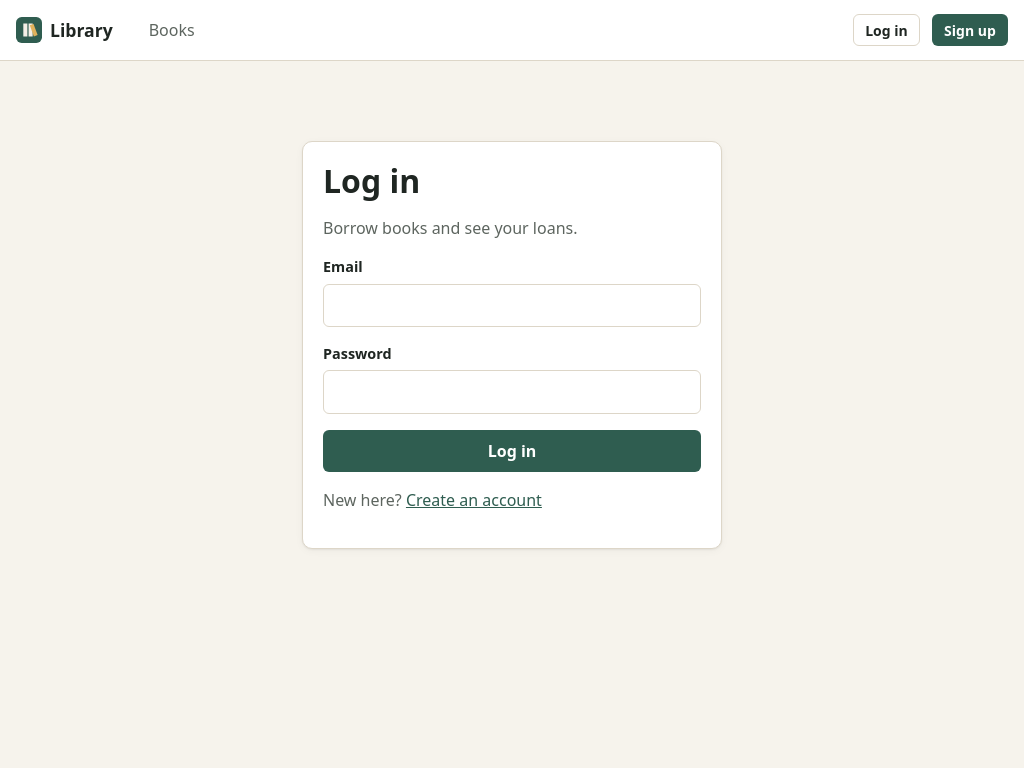
Test case: logging in › shows the API error for a wrong password
Type "ada@example.com" into the field labelled "Email".
click(512, 305); type("ada@example.com")  # box [323,284,701,327]
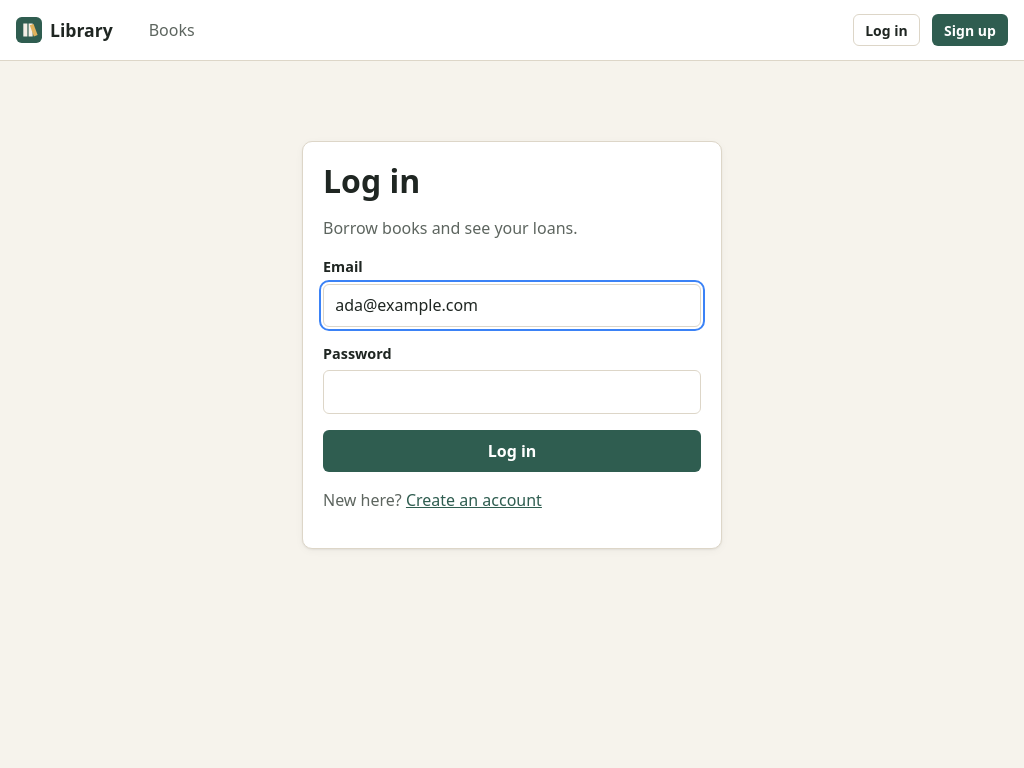
Type "wrong password" into the password field labelled "Password".
click(512, 392); type("wrong password")  # box [323,370,701,414]
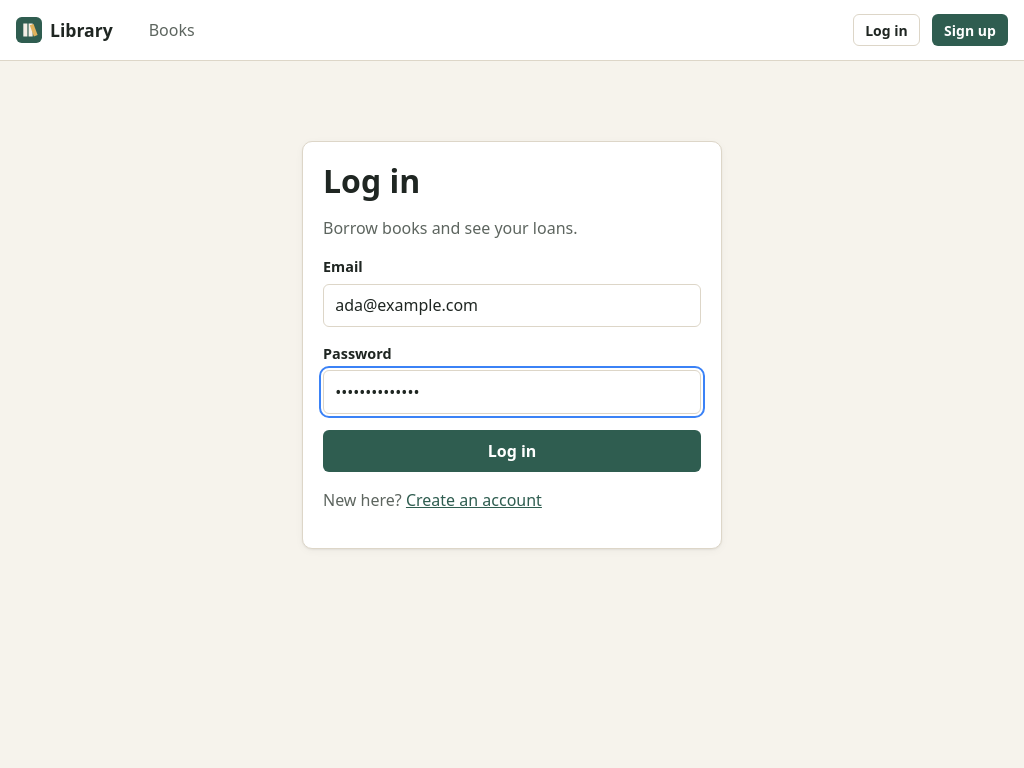
Click the button "Log in".
click(512, 451)  # box [323,430,701,472]
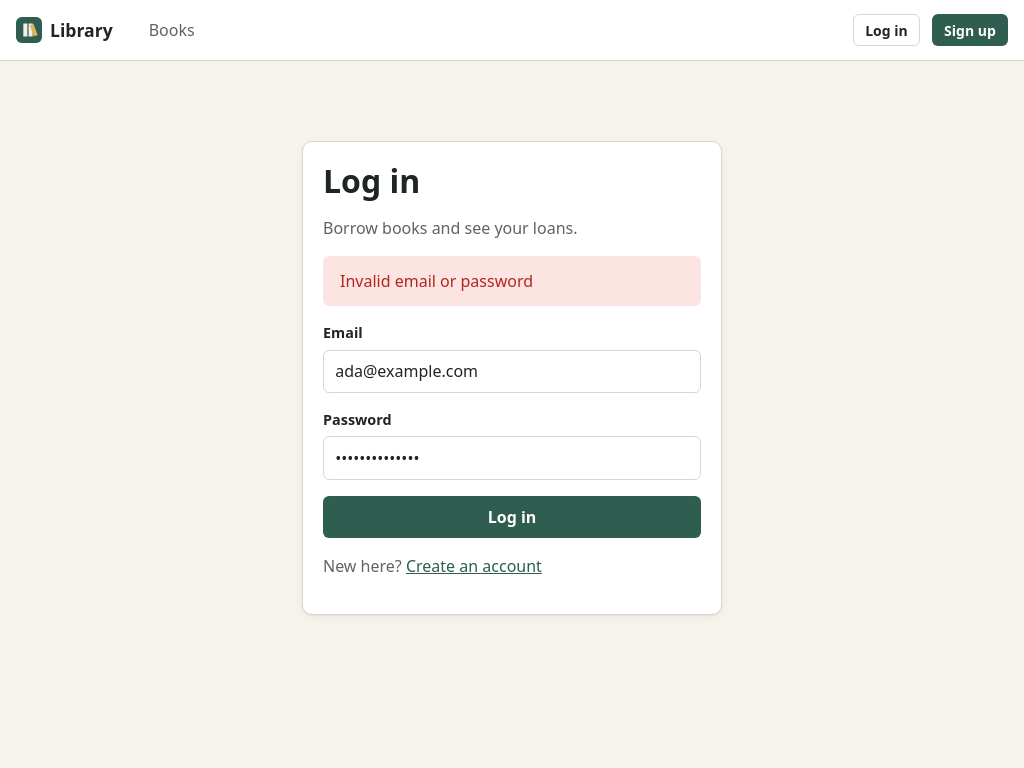
Now the message reads "Invalid email or password", box [340,270,533,292]
